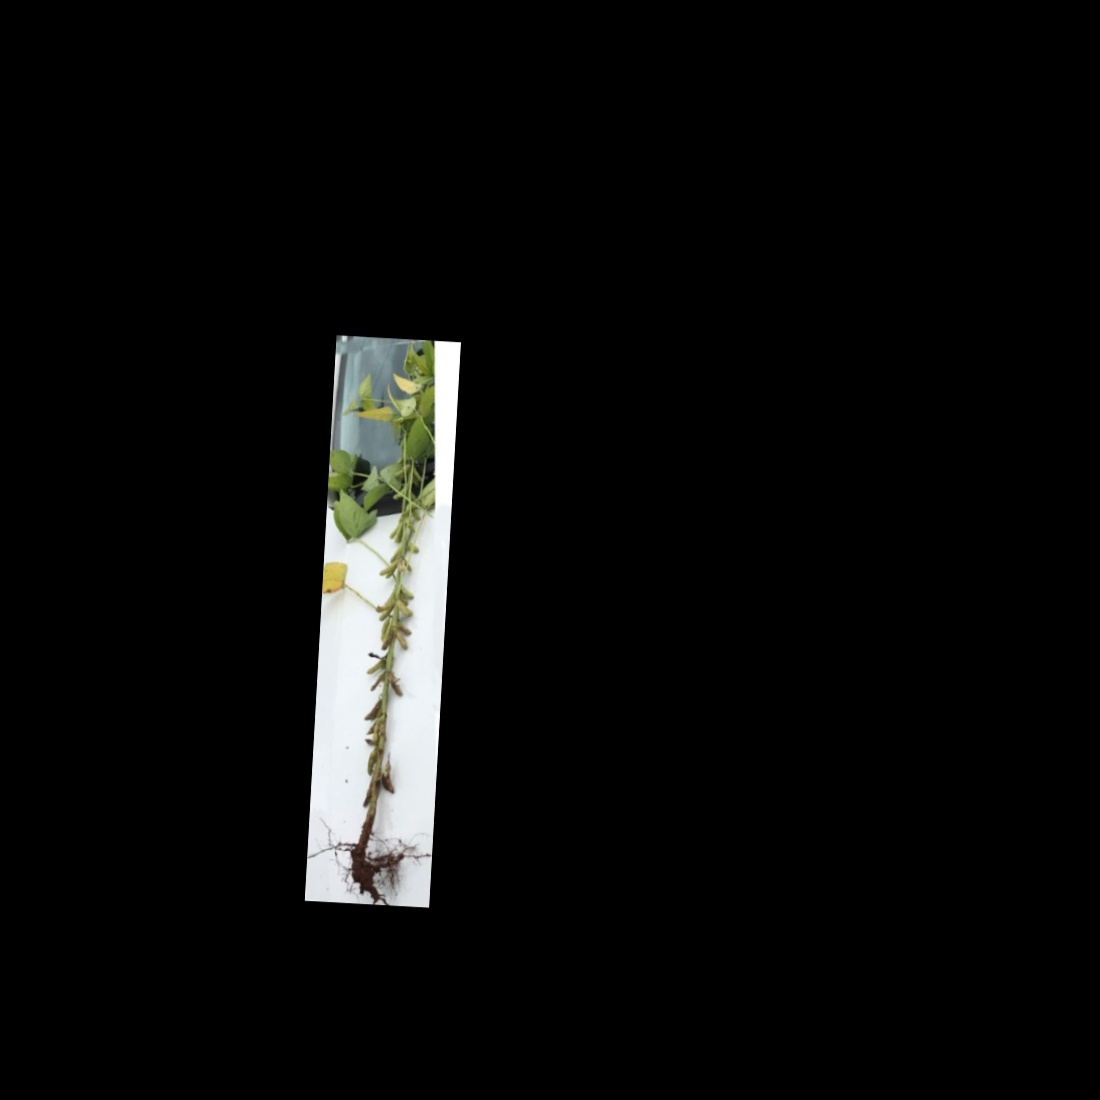pod: (393, 629, 413, 654), (377, 558, 400, 579), (377, 600, 396, 624), (396, 582, 416, 601), (394, 599, 413, 618), (390, 482, 408, 502), (403, 538, 422, 555)
soy: (311, 340, 452, 893)
